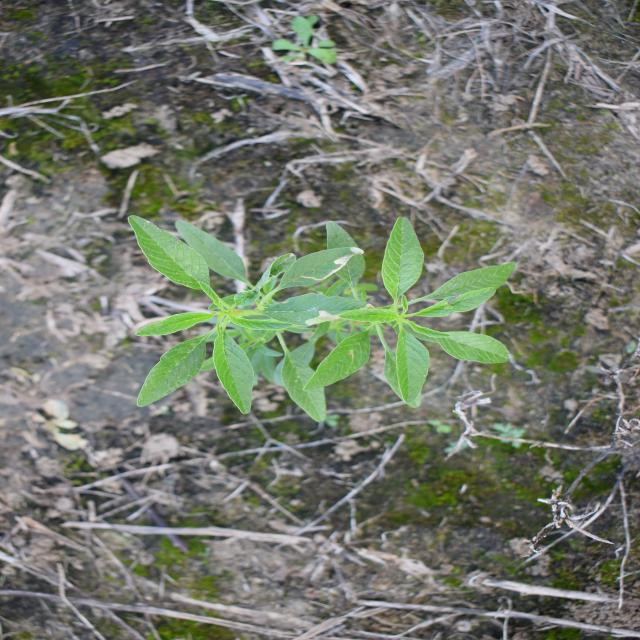Waterhemp: (125, 214, 520, 424)
